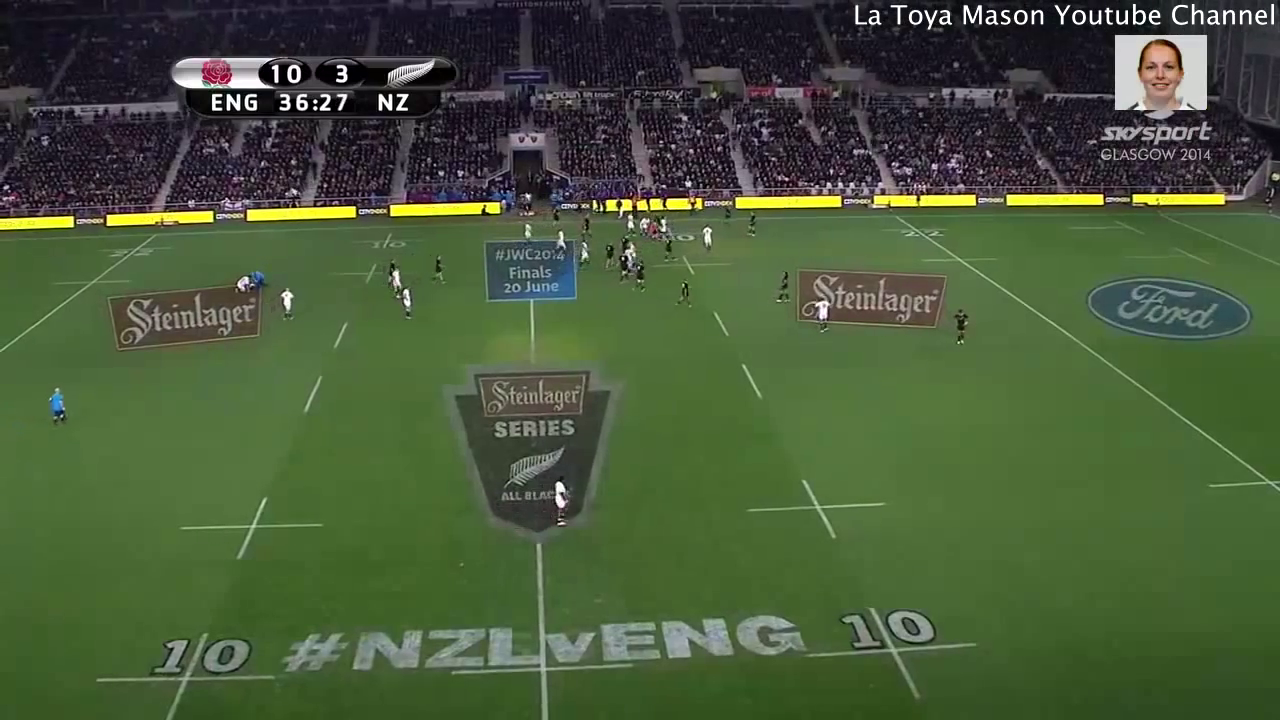10_metre: (794, 588, 990, 712), (80, 623, 282, 720), (168, 489, 339, 569), (743, 472, 894, 549), (326, 259, 425, 284), (646, 253, 735, 277), (348, 229, 430, 250), (639, 224, 710, 245)
player: (550, 472, 575, 532), (43, 380, 71, 432), (810, 292, 835, 339), (395, 282, 421, 327), (771, 267, 796, 308), (669, 275, 695, 314), (950, 305, 972, 351), (276, 282, 299, 325), (428, 251, 450, 291), (614, 247, 635, 286), (629, 258, 650, 295), (574, 237, 595, 274), (548, 226, 572, 257), (575, 211, 598, 241), (389, 264, 407, 302), (599, 240, 619, 274), (246, 263, 270, 291), (233, 269, 253, 299), (661, 233, 678, 267), (698, 223, 716, 254), (547, 203, 565, 233), (743, 207, 759, 238), (718, 202, 737, 228), (636, 211, 652, 239), (642, 219, 661, 242), (622, 209, 637, 238), (521, 220, 535, 250), (623, 210, 637, 239), (385, 258, 396, 292), (618, 234, 633, 252), (656, 215, 669, 235)
